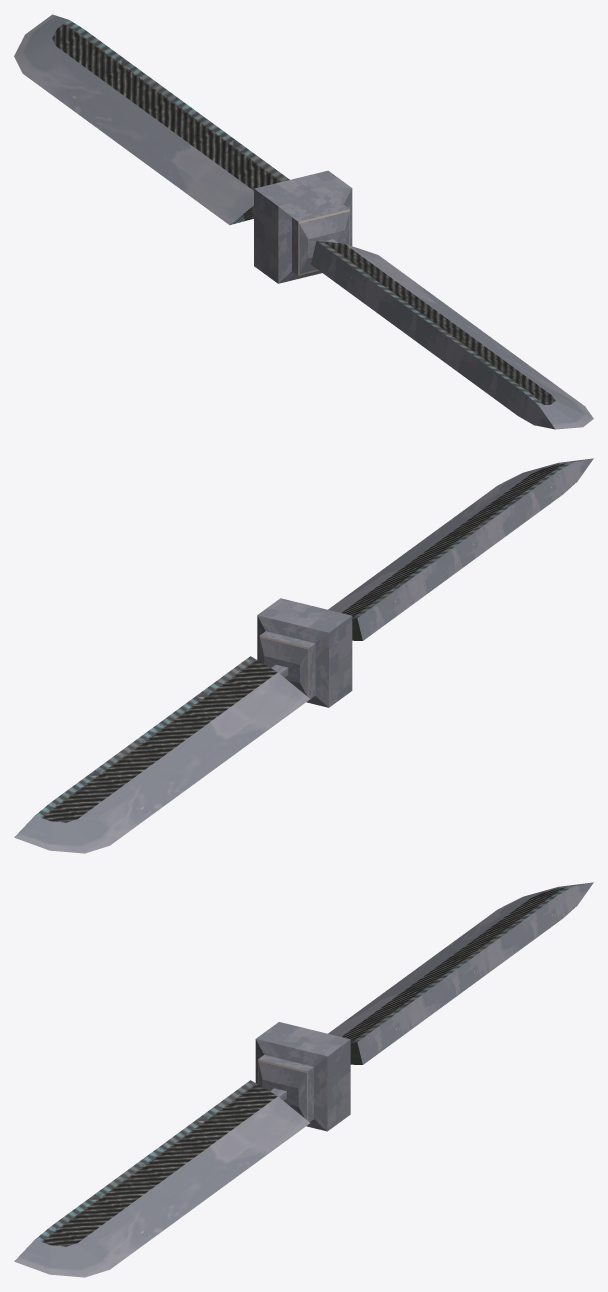
The model's file is RotateBlade.fbx.
3 views of the same model, one above another, from view 1: azimuth 30°, elevation 25°; view 2: azimuth 150°, elevation 25°; view 3: azimuth 330°, elevation 25° (orthographic). The views are drawn at different scales.
Visible parts, largest first — view 1: RotateBlade; view 2: RotateBlade; view 3: RotateBlade.
Part boxes in pixels (left/top/right/bottom): RotateBlade: left=14, top=14, right=593, bottom=429; RotateBlade: left=14, top=458, right=593, bottom=853; RotateBlade: left=14, top=882, right=593, bottom=1277.
Bounding box in the file's own units: 87.58 × 80 × 1030.
